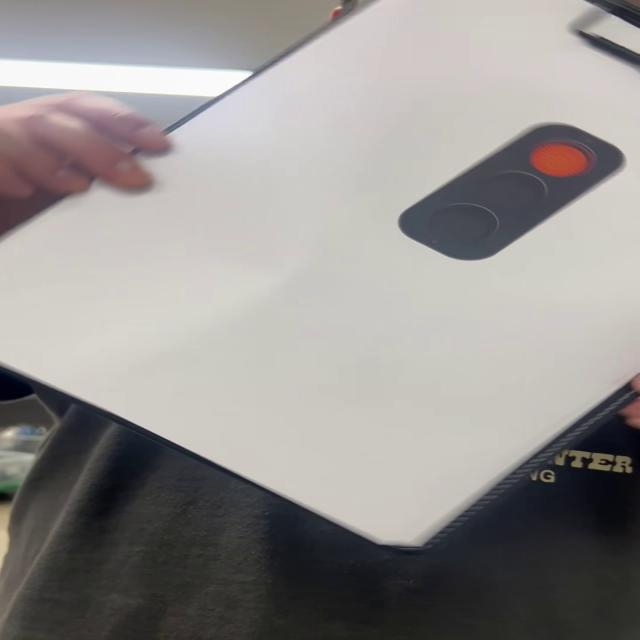red: (394, 124, 631, 264)
